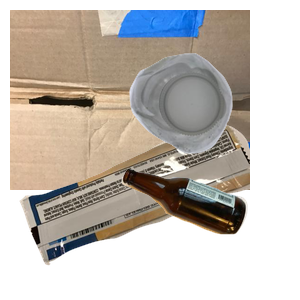cardboard: (10, 10, 250, 190)
glass: (119, 166, 300, 300)
plastic: (127, 51, 300, 197)
trash: (17, 123, 257, 300)
